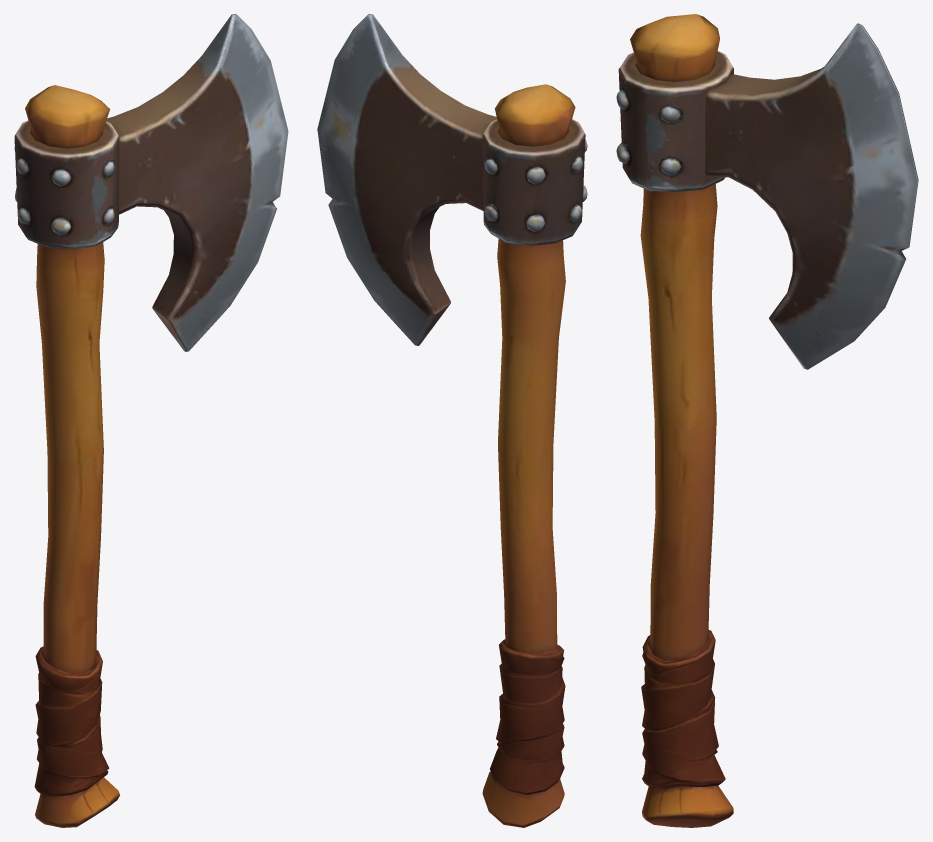
File: axe_wynd_2h_mid.glb
3 renders of one model, left to right at view 1: azimuth 30°, elevation 25°; view 2: azimuth 150°, elevation 25°; view 3: azimuth 330°, elevation 25°, orthographic. The views are drawn at different scales.
Visible parts, largest first — view 1: tripo_node_344120b8-e192-43f2-98a7-98d280c78e91; view 2: tripo_node_344120b8-e192-43f2-98a7-98d280c78e91; view 3: tripo_node_344120b8-e192-43f2-98a7-98d280c78e91.
Boxes of the visible parts, x1,y1,x2,y2 form: tripo_node_344120b8-e192-43f2-98a7-98d280c78e91: (14,14,288,827); tripo_node_344120b8-e192-43f2-98a7-98d280c78e91: (317,14,587,827); tripo_node_344120b8-e192-43f2-98a7-98d280c78e91: (616,14,918,827).
Bounding box in the file's own units: 0.5263 × 1.45 × 0.1827.
Materials: 1 (1 with a texture image).
